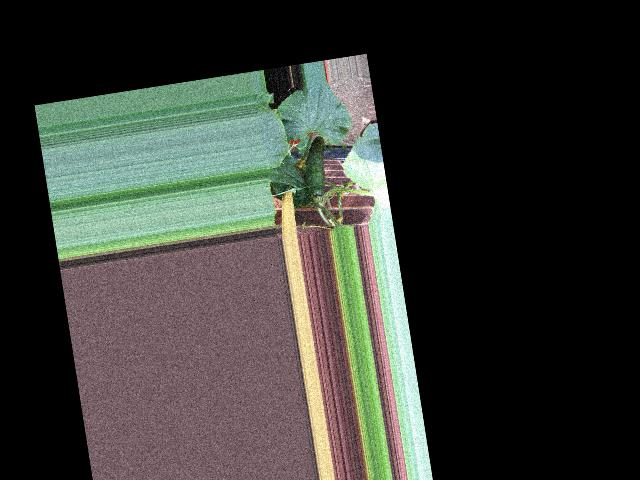cucumber: (300, 135, 333, 198)
